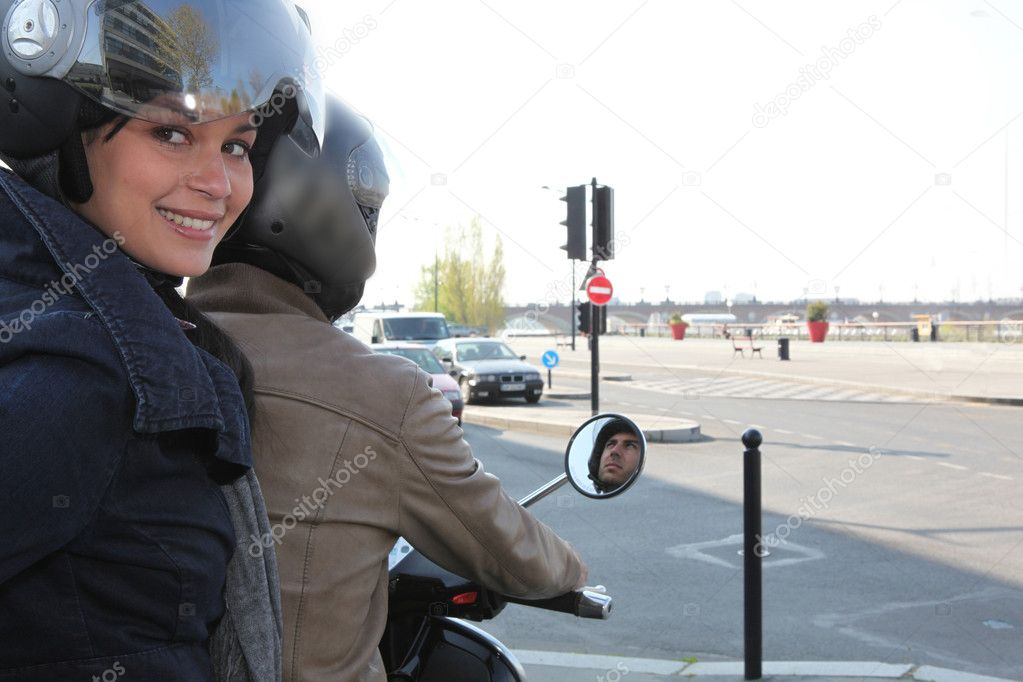helmet: (223, 81, 403, 308)
